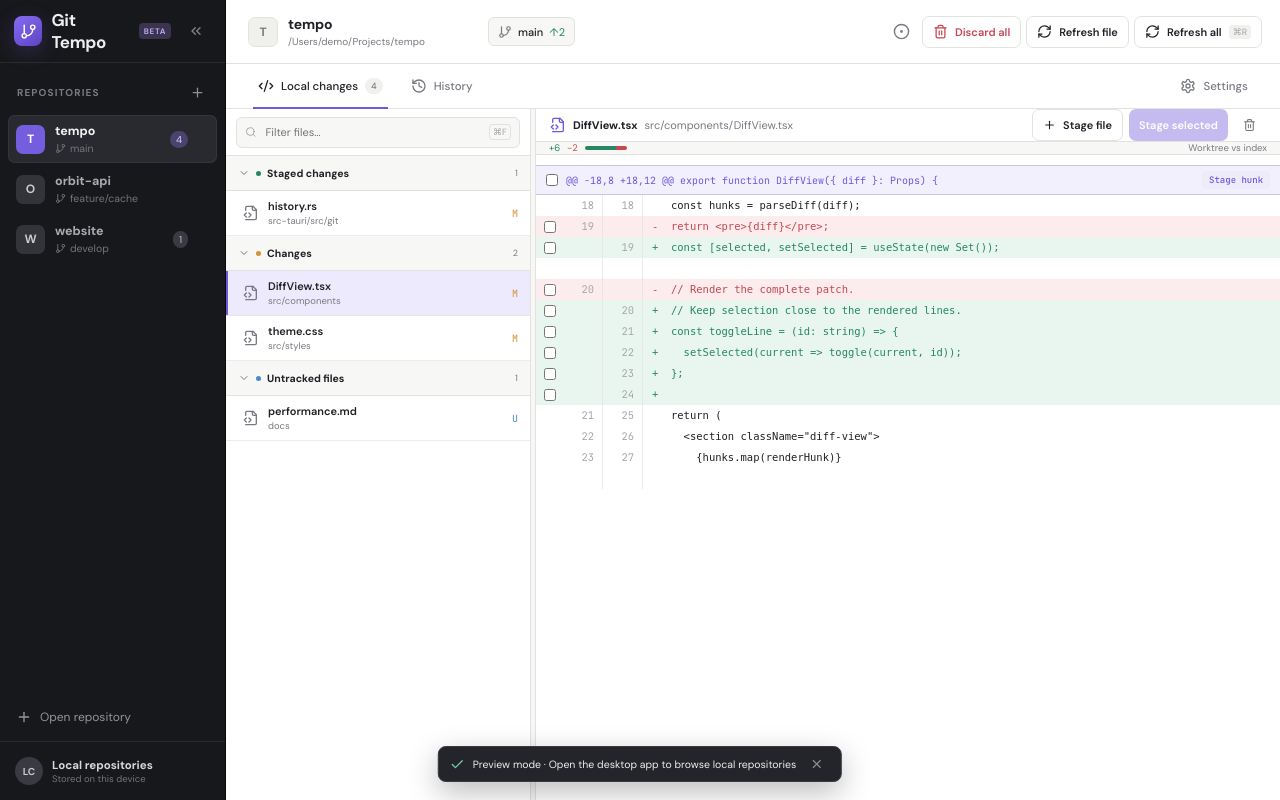
App › applies a hunk directly from its contextual action
Click the button "Stage hunk". click: [1236, 180]
box: [1202, 171, 1270, 189]
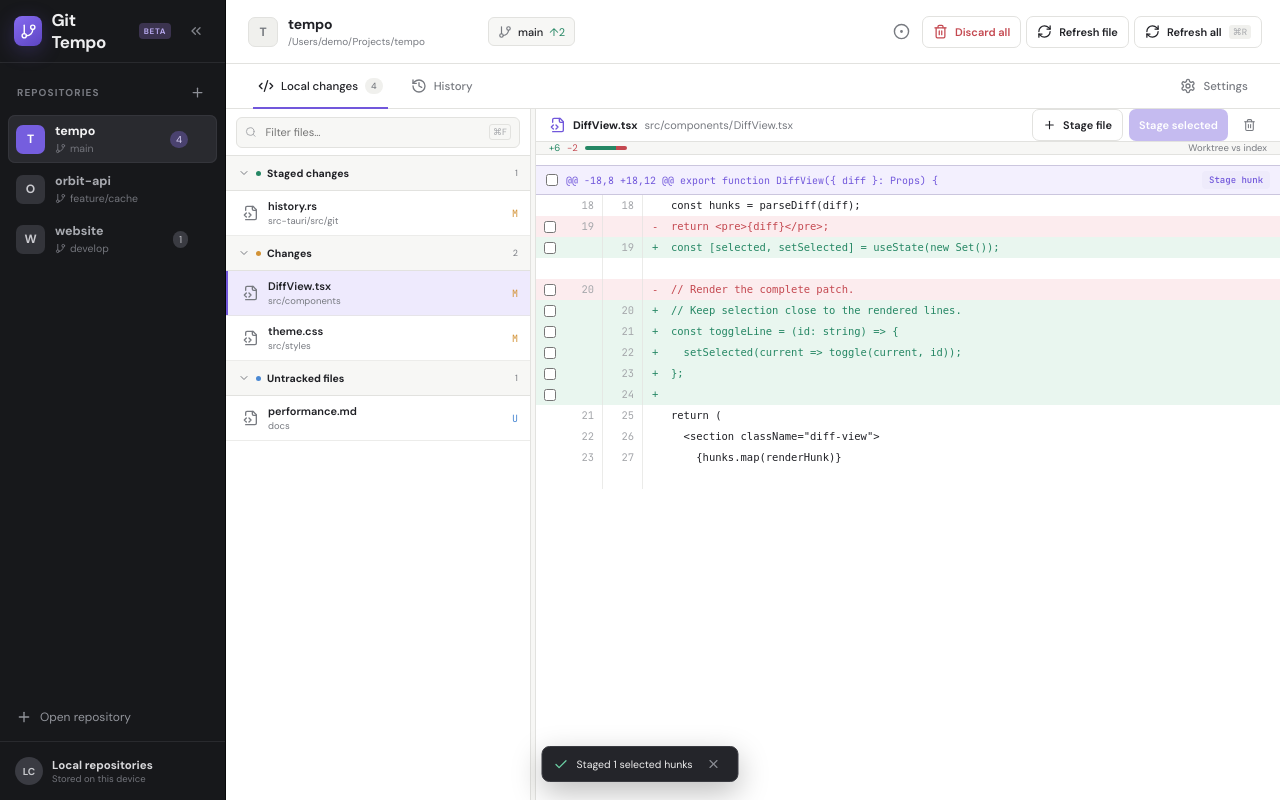
Expected: the message reads "Staged 1 selected hunks", [576, 758, 692, 770]
